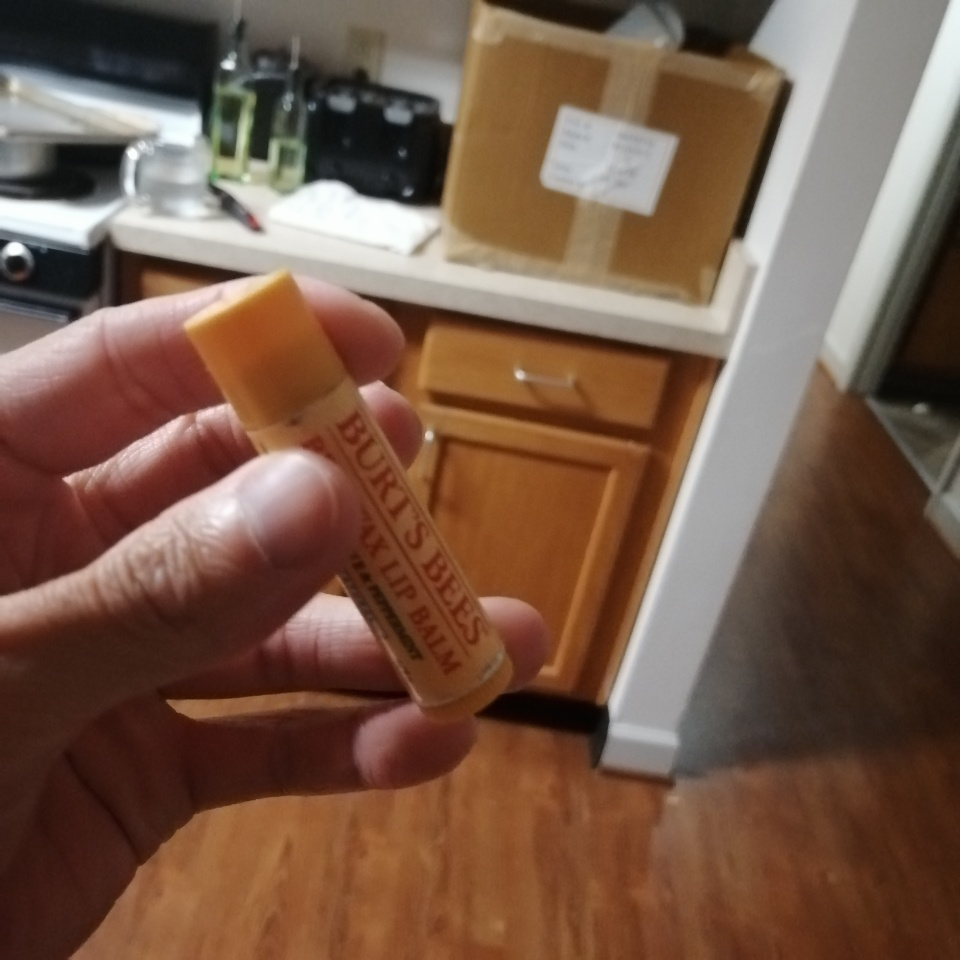chapstick: (183, 270, 514, 723)
